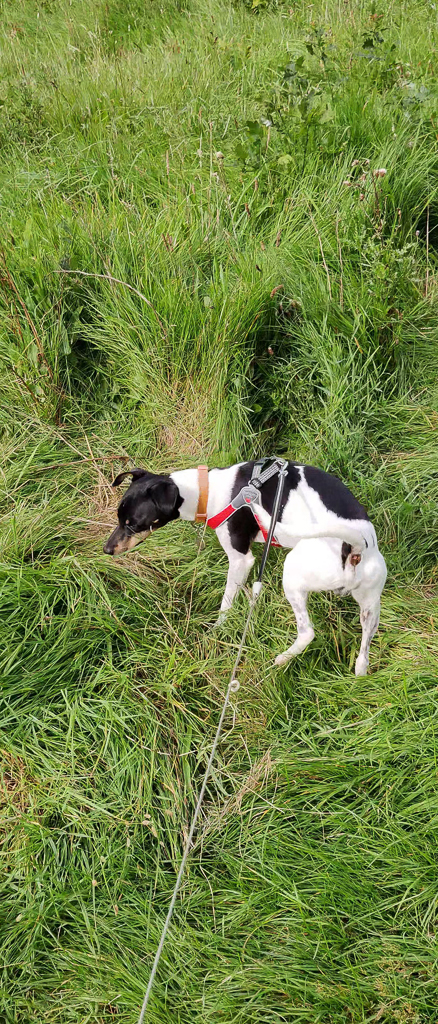Dog: (95, 441, 416, 699)
